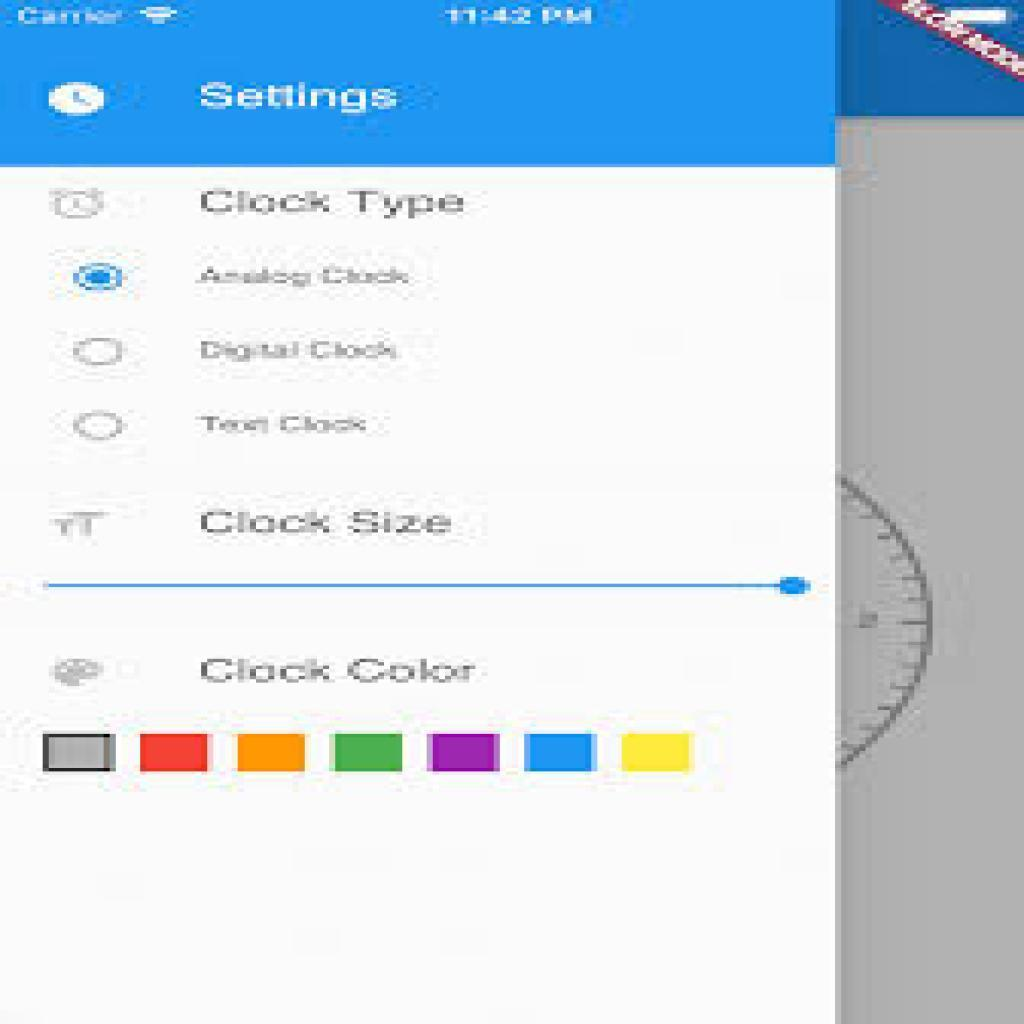radio: (63, 401, 135, 451), (67, 257, 134, 296), (69, 336, 132, 371)
slider: (24, 562, 823, 610)
